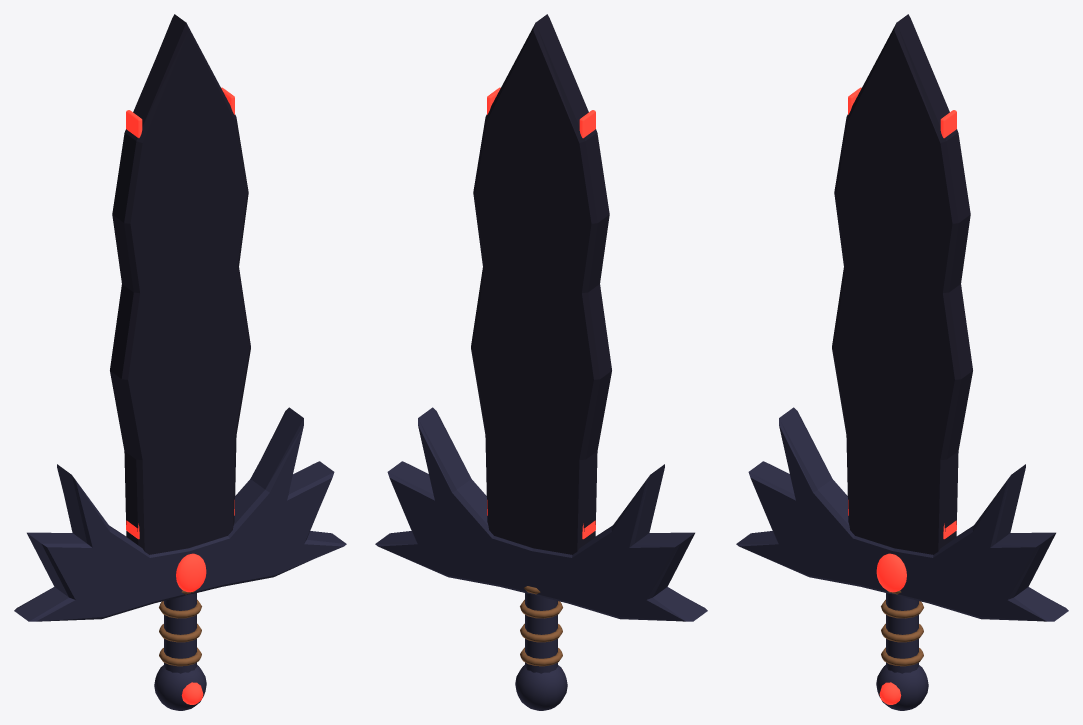
Rendered from sword_dark.glb.
The picture shows the model from 3 angles, left to right: view 1: azimuth 30°, elevation 25°; view 2: azimuth 150°, elevation 25°; view 3: azimuth 330°, elevation 25°; orthographic projection.
Visible parts, largest first — view 1: Blade, ClawGuard, Grip, Pommel, GuardGem; view 2: Blade, ClawGuard, Pommel, Grip; view 3: Blade, ClawGuard, Grip, Pommel, GuardGem.
Boxes of the visible parts, <box> form: Blade: <box>110,14,250,554</box>; ClawGuard: <box>14,407,346,621</box>; Grip: <box>164,593,196,673</box>; Pommel: <box>154,665,206,710</box>; GuardGem: <box>176,553,206,592</box>; Blade: <box>471,14,611,554</box>; ClawGuard: <box>375,407,707,621</box>; Pommel: <box>515,665,567,710</box>; Grip: <box>525,593,557,673</box>; Blade: <box>832,14,972,554</box>; ClawGuard: <box>736,407,1068,621</box>; Grip: <box>886,593,918,673</box>; Pommel: <box>876,665,928,710</box>; GuardGem: <box>876,553,906,592</box>.
Size of the model in its own units: 0.5569 by 1.15 by 0.092.
